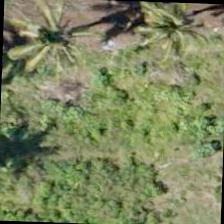Kelapa_Sawit: (119, 0, 210, 74), (1, 0, 58, 89)
